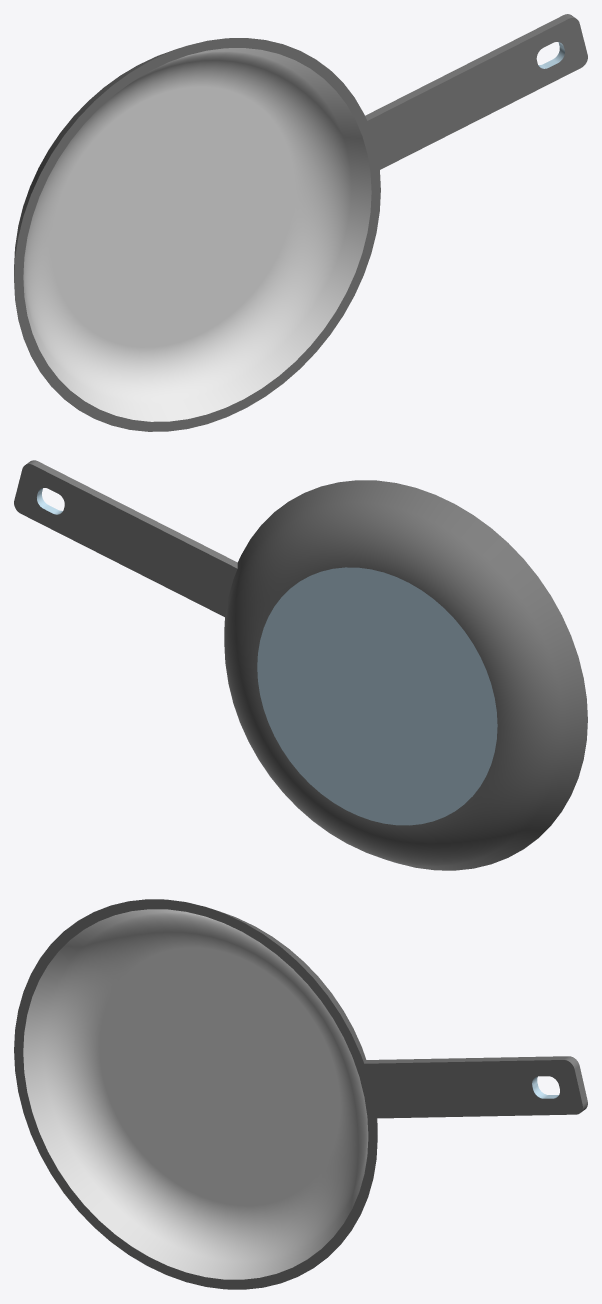
Rendered from pan.obj.
The picture shows the model from 3 angles, top to bottom: view 1: azimuth 30°, elevation 25°; view 2: azimuth 150°, elevation 25°; view 3: azimuth 330°, elevation 25°; orthographic projection.
Visible parts, largest first — view 1: mesh20, mesh19, mesh17, mesh18, mesh3, mesh2; view 2: mesh1, mesh0, mesh2, mesh8, mesh3; view 3: mesh20, mesh19, mesh17, mesh18, mesh3, mesh2.
Part boxes in pixels (<box>): mesh20: <box>52,87,294,347</box>; mesh19: <box>23,51,351,403</box>; mesh17: <box>14,18,587,431</box>; mesh18: <box>23,48,371,421</box>; mesh3: <box>365,15,567,120</box>; mesh2: <box>14,47,182,275</box>; mesh1: <box>224,502,563,866</box>; mesh0: <box>257,567,497,825</box>; mesh2: <box>224,480,587,870</box>; mesh8: <box>14,464,237,616</box>; mesh3: <box>33,461,237,568</box>; mesh20: <box>99,948,339,1205</box>; mesh19: <box>43,912,368,1261</box>; mesh17: <box>14,899,582,1289</box>; mesh18: <box>23,909,368,1279</box>; mesh3: <box>364,1056,567,1063</box>; mesh2: <box>211,908,377,1134</box>.
Bounding box in the file's own units: 0.018 × 0.0115 × 0.00157.
